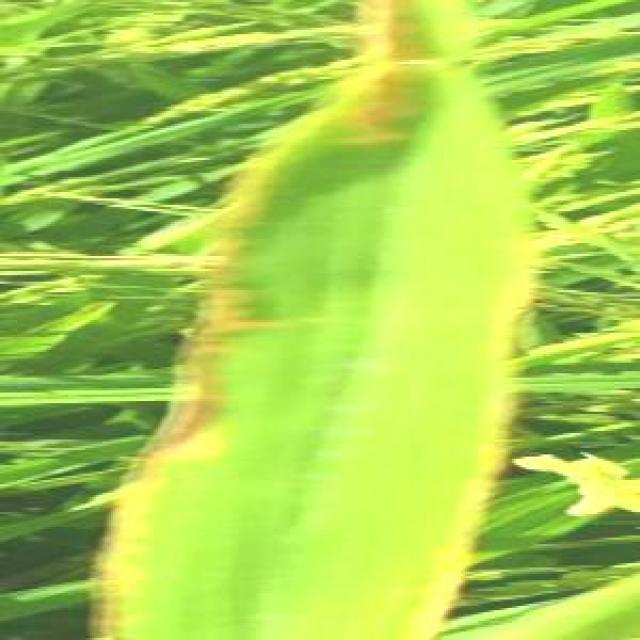Rice_Bacterial_Blight: (165, 19, 524, 634)
